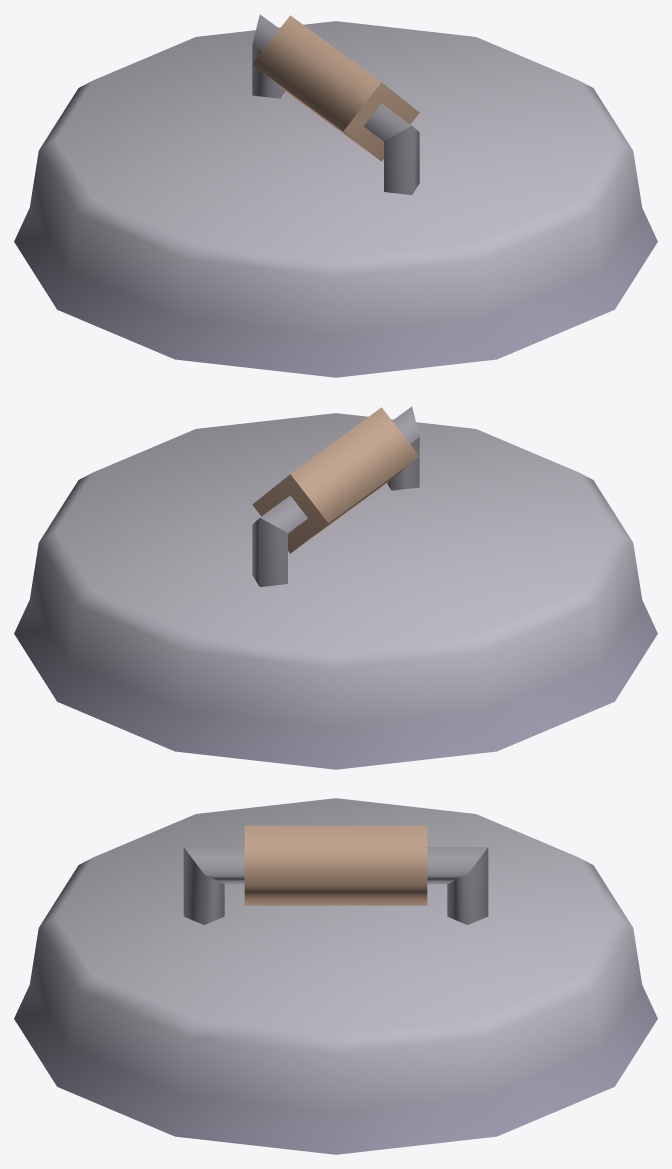
Rendered from (%no-merge) lid 1.glb.
3 renders of one model, top to bottom at view 1: azimuth 30°, elevation 25°; view 2: azimuth 150°, elevation 25°; view 3: azimuth 270°, elevation 25°, orthographic.
Visible parts, largest first — view 1: (%no-merge) lid 1; view 2: (%no-merge) lid 1; view 3: (%no-merge) lid 1.
Boxes of the visible parts, left/top/right/bottom form: (%no-merge) lid 1: left=14, top=14, right=657, bottom=377; (%no-merge) lid 1: left=14, top=406, right=657, bottom=769; (%no-merge) lid 1: left=14, top=798, right=657, bottom=1154.
Size of the model in its own units: 0.5138 by 0.1699 by 0.5138.
